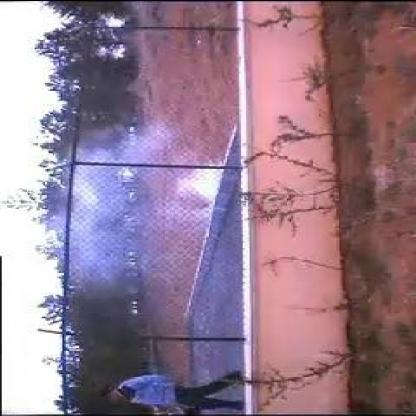-: (63, 150, 216, 282)
